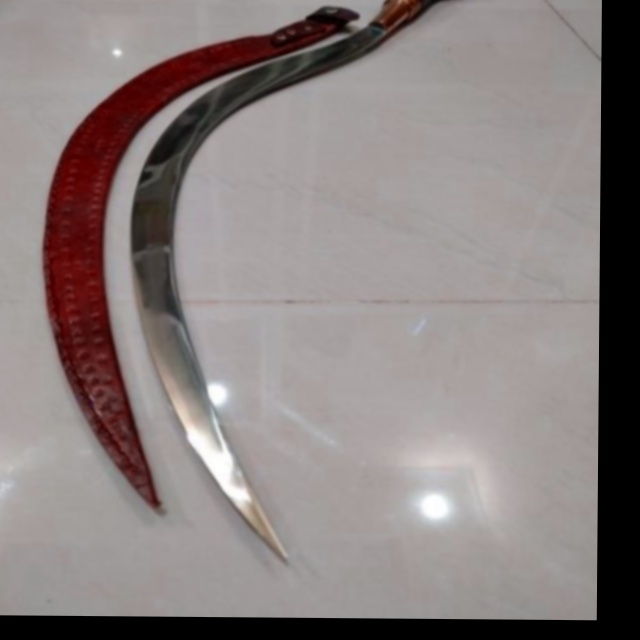Sharp-Object: (119, 0, 472, 575)
